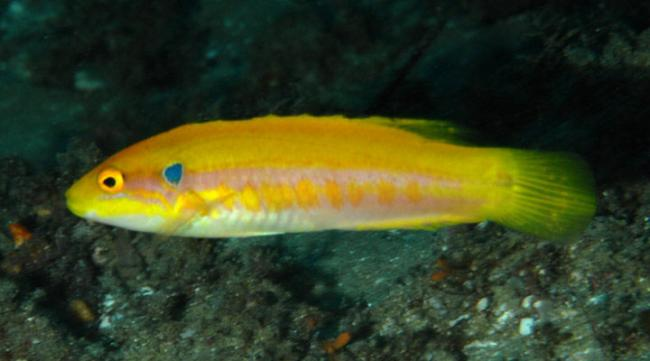fish: (67, 116, 596, 241)
